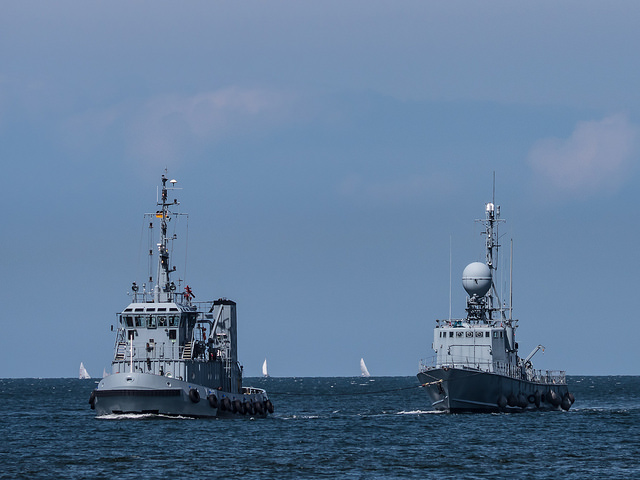tug_boat: (85, 174, 273, 421), (410, 176, 579, 413)
